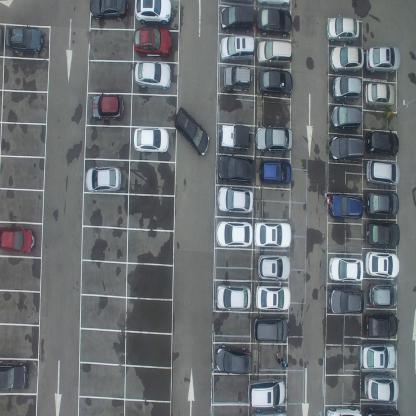car: (174, 106, 210, 158), (246, 376, 286, 408), (134, 24, 172, 56), (214, 343, 252, 375), (5, 25, 43, 56), (328, 286, 367, 316), (217, 153, 256, 182), (134, 60, 172, 89), (215, 219, 253, 248), (253, 221, 292, 249), (365, 44, 401, 74), (364, 249, 400, 279), (363, 372, 399, 402), (359, 341, 396, 370), (0, 225, 35, 255), (257, 7, 292, 37), (329, 44, 364, 74), (219, 34, 255, 63), (328, 254, 364, 283), (255, 126, 292, 154), (217, 186, 254, 214), (84, 165, 122, 192), (366, 128, 399, 159), (91, 92, 125, 122), (257, 40, 292, 69), (329, 135, 365, 163), (133, 127, 170, 154), (326, 14, 360, 43), (257, 252, 291, 281), (220, 4, 255, 32), (258, 70, 293, 98), (365, 189, 400, 217), (365, 220, 400, 248), (254, 284, 290, 311), (253, 315, 289, 342), (366, 158, 400, 186), (134, 0, 172, 25), (216, 283, 251, 310), (259, 158, 292, 186), (329, 192, 363, 219), (220, 122, 252, 150), (364, 81, 396, 109), (365, 311, 398, 338), (90, 0, 128, 23), (330, 105, 362, 132), (0, 360, 29, 389), (223, 64, 253, 91), (332, 76, 362, 102), (368, 282, 398, 308), (326, 404, 362, 415), (365, 404, 399, 415), (251, 407, 286, 415)
